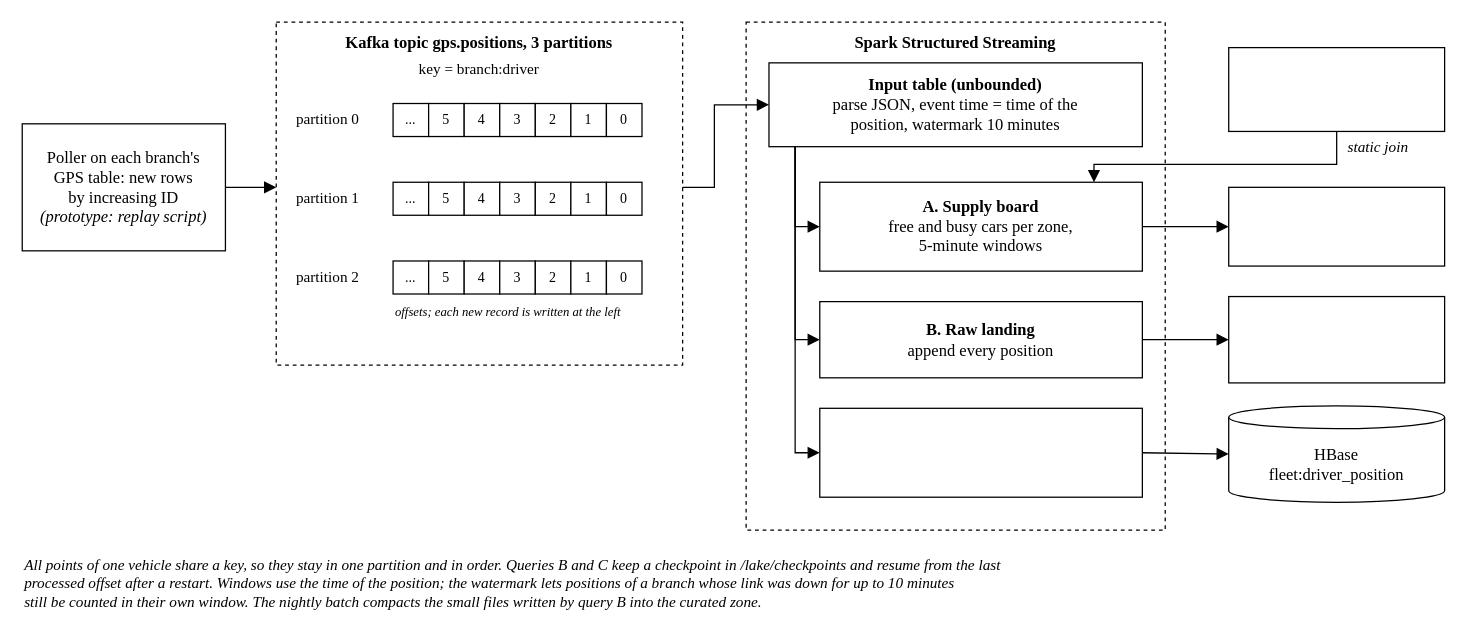
The diagram is 1469 pixels wide and 639 high, and some of its shapes have lost their labels. Here are the shapes that lost their labels. From the top down, the centre of each, then its label:
[1336,88]: Reference tables (raw zone): zones, drivers
[1336,226]: Console (production: pricing screen, city board)
[1336,339]: HDFS raw zone /lake/raw/stream/gps Parquet by branch, day
[980,452]: C. Latest position last point per vehicle in each micro-batch (foreachBatch)
